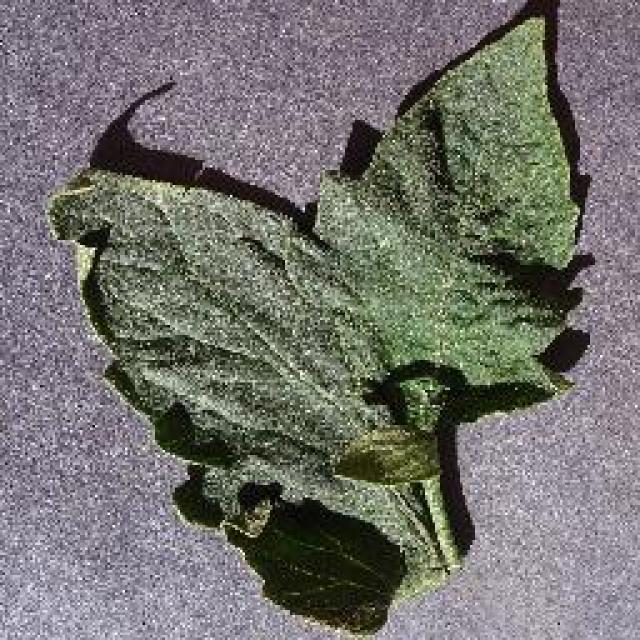Tomato healthy leaf: (52, 18, 570, 600)
